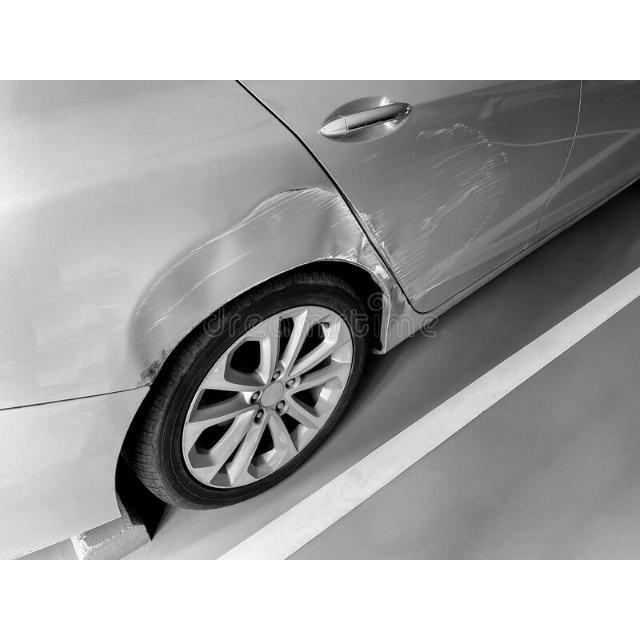doorouter-dent: (327, 81, 536, 272)
quaterpanel-dent: (10, 126, 326, 388)
